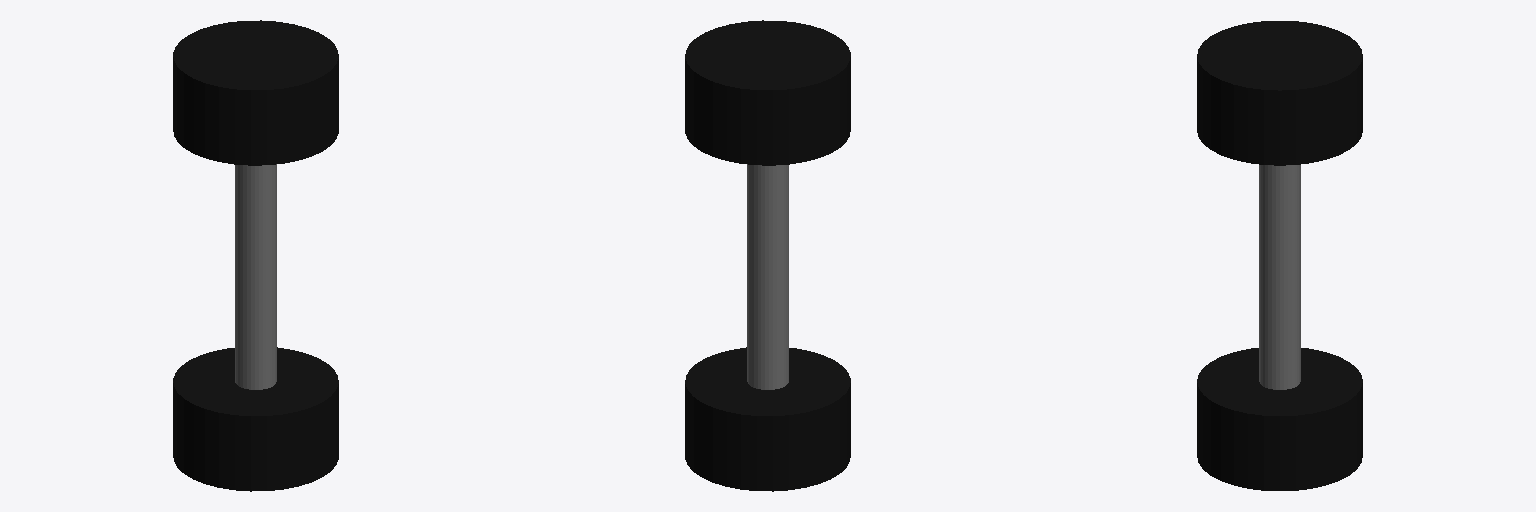
robot.urdf — dumbbell:
<?xml version="1.0"?>
<robot name="dumbbell">
  <!-- 中間握把：縮短至 0.08m, 半徑維持 0.006m -->
  <link name="handle">
    <visual>
      <geometry>
        <cylinder length="0.08" radius="0.006"/>
      </geometry>
      <material name="grey"><color rgba="0.5 0.5 0.5 1"/></material>
    </visual>
    <collision>
      <geometry>
        <cylinder length="0.08" radius="0.006"/>
      </geometry>
    </collision>
    <inertial>
      <mass value="0.02"/>
      <inertia ixx="0.000015" ixy="0.0" ixz="0.0" iyy="0.000015" iyz="0.0" izz="0.000001"/>
    </inertial>
  </link>

  <!-- 左配重：偏移更新至 0.052m (半長 0.04 + 配重半厚 0.012) -->
  <link name="left_weight">
    <visual>
      <origin xyz="0 0 0.052" rpy="0 0 0"/>
      <geometry>
        <cylinder length="0.024" radius="0.024"/>
      </geometry>
      <material name="black"><color rgba="0.1 0.1 0.1 1"/></material>
    </visual>
    <collision>
      <origin xyz="0 0 0.052" rpy="0 0 0"/>
      <geometry>
        <cylinder length="0.024" radius="0.024"/>
      </geometry>
    </collision>
    <inertial>
      <mass value="0.04"/>
      <inertia ixx="0.00004" ixy="0.0" ixz="0.0" iyy="0.00004" iyz="0.0" izz="0.00004"/>
    </inertial>
  </link>

  <!-- 右配重：偏移更新至 -0.052m -->
  <link name="right_weight">
    <visual>
      <origin xyz="0 0 -0.052" rpy="0 0 0"/>
      <geometry>
        <cylinder length="0.024" radius="0.024"/>
      </geometry>
      <material name="black"/>
    </visual>
    <collision>
      <origin xyz="0 0 -0.052" rpy="0 0 0"/>
      <geometry>
        <cylinder length="0.024" radius="0.024"/>
      </geometry>
    </collision>
    <inertial>
      <mass value="0.04"/>
      <inertia ixx="0.00004" ixy="0.0" ixz="0.0" iyy="0.00004" iyz="0.0" izz="0.00004"/>
    </inertial>
  </link>

  <!-- 中心目標點 handle_target -->
  <link name="handle_target">
    <visual>
      <geometry>
        <sphere radius="0.003"/>
      </geometry>
      <material name="yellow"><color rgba="1 1 0 1"/></material>
    </visual>
  </link>

  <joint name="joint_left" type="fixed">
    <parent link="handle"/>
    <child link="left_weight"/>
  </joint>

  <joint name="joint_right" type="fixed">
    <parent link="handle"/>
    <child link="right_weight"/>
  </joint>

  <joint name="joint_target" type="fixed">
    <parent link="handle"/>
    <child link="handle_target"/>
    <origin xyz="0 0 0" rpy="0 0 0"/>
  </joint>
</robot>

--- Render facts (derived) ---
The picture shows the robot from 3 angles, left to right: view 1: azimuth 30°, elevation 25°; view 2: azimuth 150°, elevation 25°; view 3: azimuth 270°, elevation 25°; orthographic projection.
Robot: dumbbell — 4 links, 3 joints (3 fixed); root link handle; default pose: every joint at zero.
Links seen in each view (by area): view 1: left_weight, right_weight, handle; view 2: left_weight, right_weight, handle; view 3: left_weight, right_weight, handle.
Boxes of the visible links, x1,y1,x2,y2 form: left_weight: (173, 20, 338, 165); right_weight: (173, 347, 338, 491); handle: (235, 164, 276, 389); left_weight: (685, 20, 850, 165); right_weight: (685, 347, 850, 491); handle: (747, 164, 788, 389); left_weight: (1197, 21, 1362, 165); right_weight: (1197, 348, 1362, 490); handle: (1259, 165, 1300, 389).
Size in the robot's own frame: 0.048 by 0.048 by 0.128 metres.
Geometry: primitives only (box / cylinder / sphere), no mesh files.
